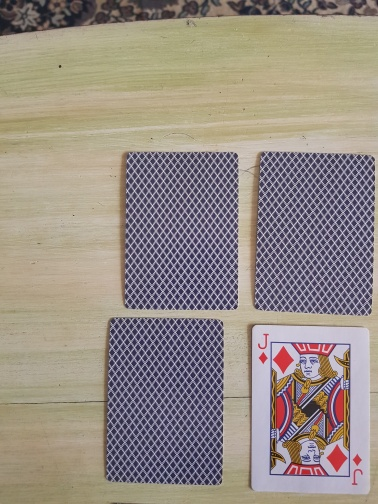jack: (250, 324, 370, 495)
